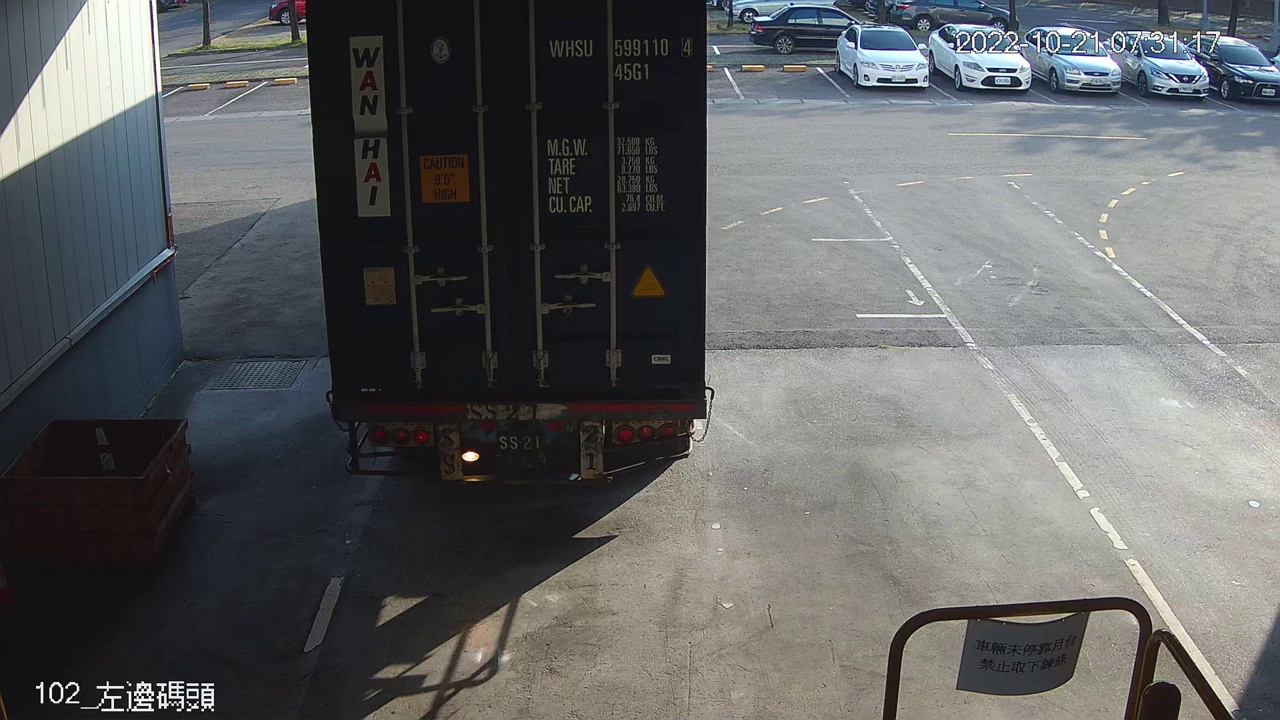container: (542, 29, 698, 85)
